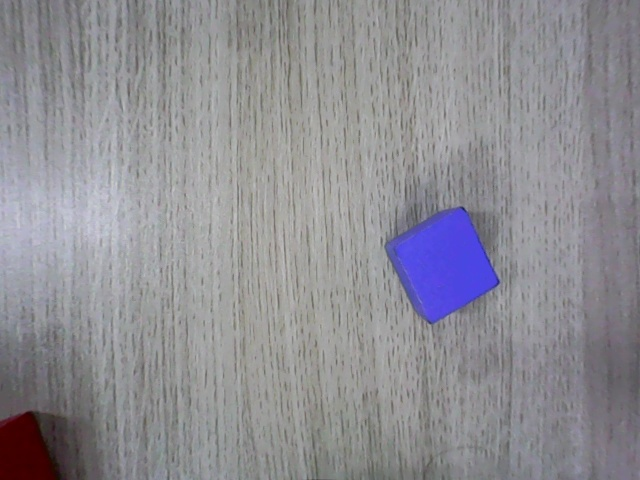upside of small cube: (393, 205, 500, 326)
